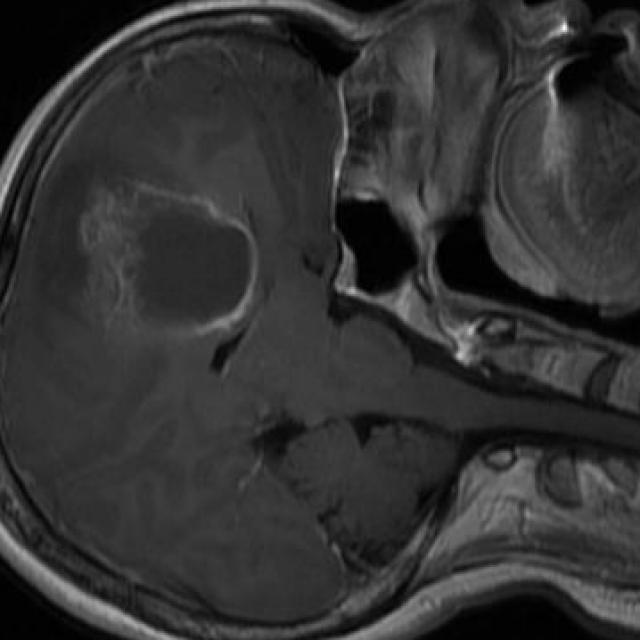glioma: (82, 180, 257, 342)
